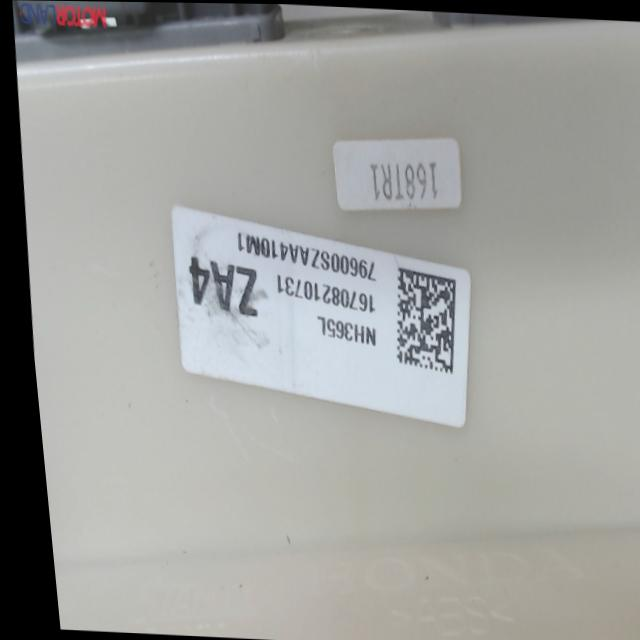datamatrix: (382, 265, 458, 373)
